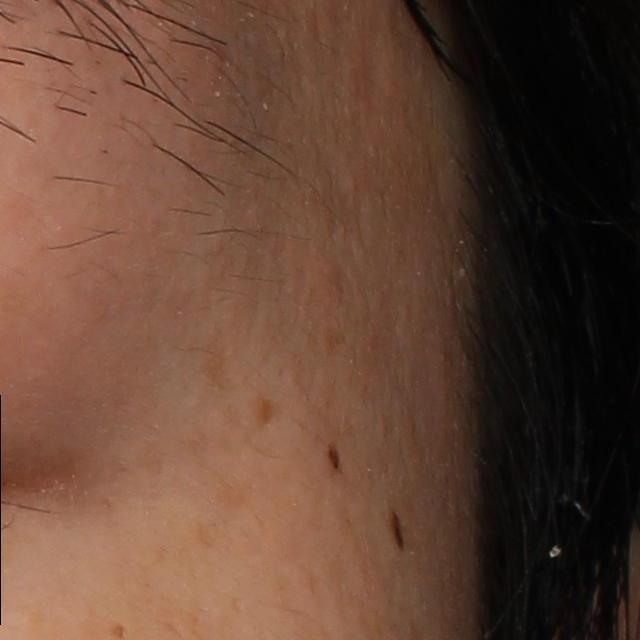melasma: (198, 346, 230, 385), (254, 396, 281, 430)
nevus: (390, 508, 409, 553), (325, 446, 341, 469)
